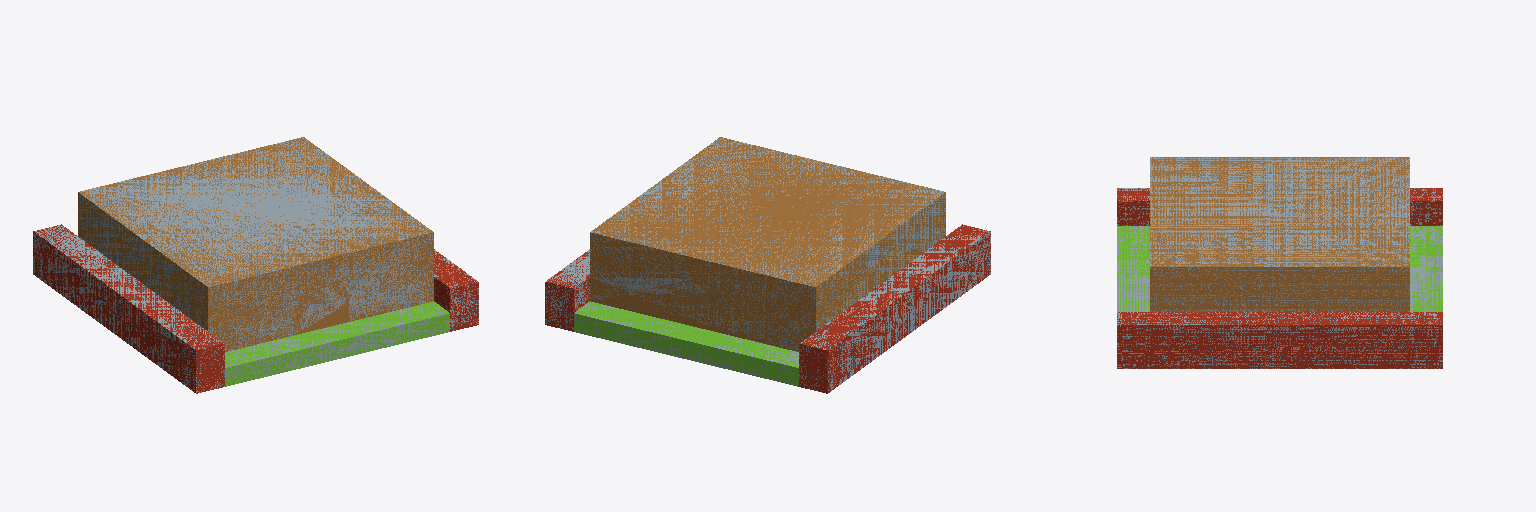
File: Tunnel_narrow_01.obj
3 views of the same model, side by side, from view 1: azimuth 30°, elevation 25°; view 2: azimuth 150°, elevation 25°; view 3: azimuth 270°, elevation 25° (orthographic).
Parts seen in each view (by area): view 1: Mesh1 Tunnel_narrow Model; view 2: Mesh1 Tunnel_narrow Model; view 3: Mesh1 Tunnel_narrow Model.
Boxes of the visible parts, <box> form: Mesh1 Tunnel_narrow Model: <box>33,137,478,393</box>; Mesh1 Tunnel_narrow Model: <box>545,137,990,393</box>; Mesh1 Tunnel_narrow Model: <box>1117,157,1442,368</box>.
Size of the model in its own units: 3 by 0.89 by 3.